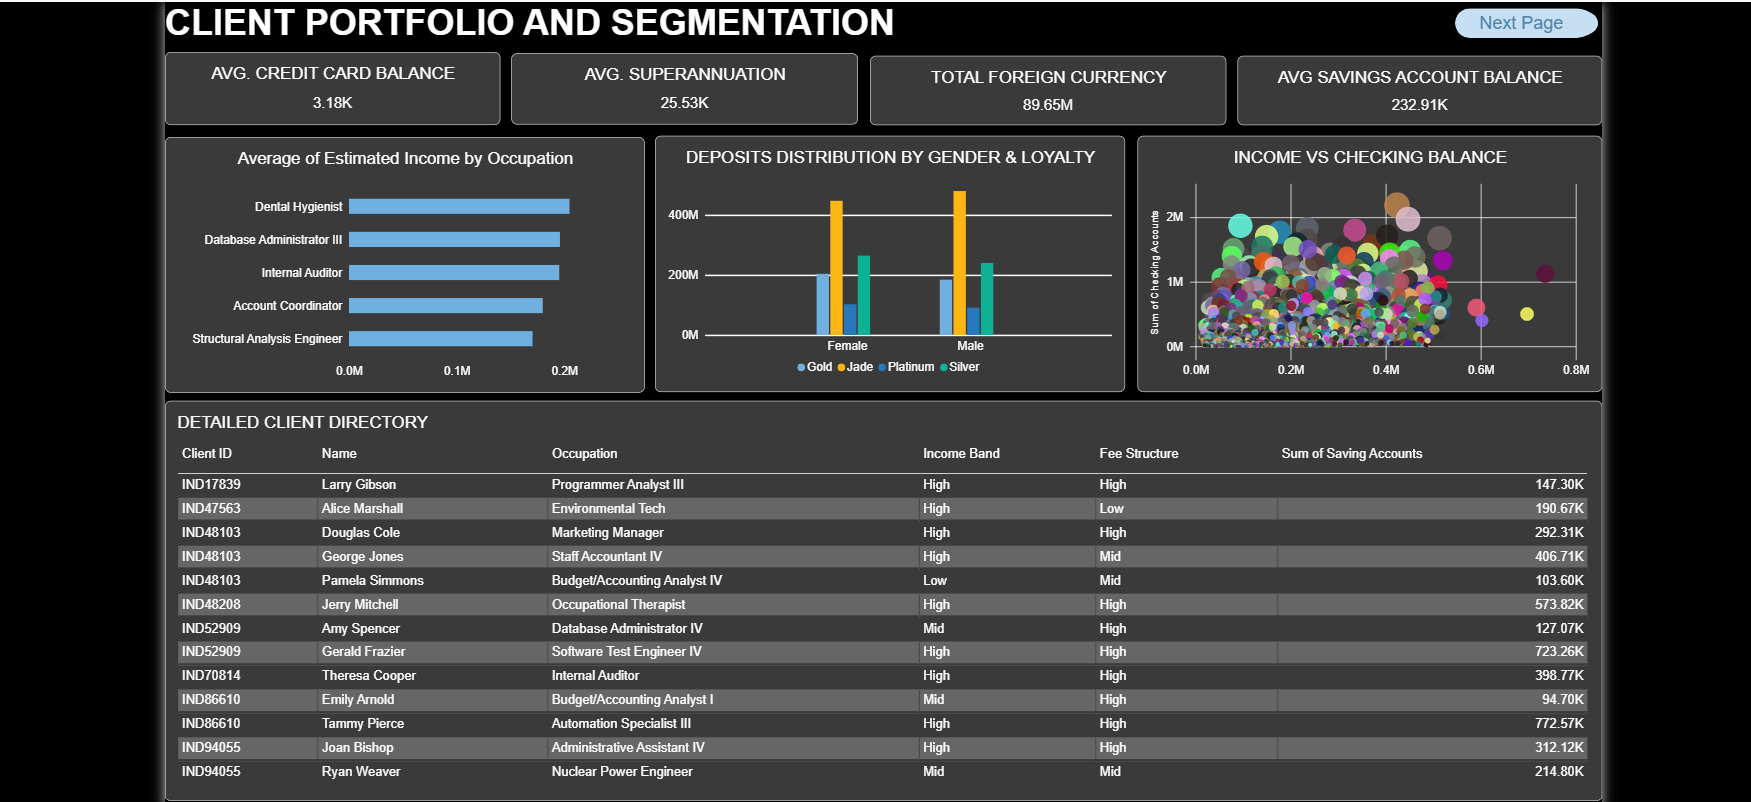

This screenshot's page, from the dashboard's own definition file:
{"tool":"powerbi","page":{"name":"Page 2","canvas":[1920,1080],"ordinal":1},"visuals":[{"type":"textbox","box":[0,0,1283,67],"z":0},{"type":"card","title":"AVG. CREDIT CARD BALANCE","fields":{"Values":["Avg(banking_merged.Credit Card Balance)"]},"box":[0,67.1,448,97.4],"z":1000},{"type":"card","title":"AVG. SUPERANNUATION","fields":{"Values":["Avg(banking_merged.Superannuation Savings)"]},"box":[463.1,69.3,463.1,95.2],"z":2000},{"type":"card","title":"TOTAL FOREIGN CURRENCY","fields":{"Values":["Sum(banking_merged.Foreign Currency Account)"]},"box":[941.4,71.4,476.1,93.1],"z":3000},{"type":"card","title":"AVG SAVINGS ACCOUNT BALANCE","fields":{"Values":["Avg(banking_merged.Saving Accounts)"]},"box":[1432.7,71.4,486.9,93.1],"z":4000},{"type":"clusteredBarChart","fields":{"Category":["banking_merged.Occupation"],"Y":["Avg(banking_merged.Estimated Income)"]},"box":[0,179.6,640.6,341.9],"z":5000},{"type":"clusteredColumnChart","title":"DEPOSITS DISTRIBUTION BY GENDER & LOYALTY","fields":{"Category":["banking_merged.Gender"],"Series":["banking_merged.Loyalty Classification"],"Y":["Sum(banking_merged.Bank Deposits)"]},"box":[655.1,179.2,628,342],"z":6000},{"type":"scatterChart","title":"INCOME VS CHECKING BALANCE","fields":{"Series":["banking_merged.Client ID"],"Size":["Sum(banking_merged.Bank Deposits)"],"X":["Sum(banking_merged.Estimated Income)"],"Y":["Sum(banking_merged.Checking Accounts)"]},"box":[1299.3,179.2,620.7,342],"z":7000},{"type":"tableEx","title":"DETAILED CLIENT DIRECTORY","fields":{"Values":["banking_merged.Client ID","banking_merged.Name","banking_merged.Occupation","banking_merged.Income Band","banking_merged.Fee Structure","Sum(banking_merged.Saving Accounts)"]},"box":[0,532,1920.1,535.7],"z":8000},{"type":"actionButton","title":"Next Page","box":[1722.7,9,197.3,39.8],"z":9000}]}

Visuals, with their boxes on the page's 1920x1080 design canvas (x1, y1, x2, y2). These are canvas units, not pixel positions in the 1751x802 screenshot, which may show the page scaled, cropped or inside an application window:
textbox: <box>0,0,1283,67</box>
"AVG. CREDIT CARD BALANCE" card: <box>0,67,448,164</box>
"AVG. SUPERANNUATION" card: <box>463,69,926,164</box>
"TOTAL FOREIGN CURRENCY" card: <box>941,71,1418,164</box>
"AVG SAVINGS ACCOUNT BALANCE" card: <box>1433,71,1920,164</box>
clusteredBarChart - banking_merged.Occupation x Avg(banking_merged.Estimated Income): <box>0,180,641,522</box>
"DEPOSITS DISTRIBUTION BY GENDER & LOYALTY" clusteredColumnChart: <box>655,179,1283,521</box>
"INCOME VS CHECKING BALANCE" scatterChart: <box>1299,179,1920,521</box>
"DETAILED CLIENT DIRECTORY" tableEx: <box>0,532,1920,1068</box>
"Next Page" actionButton: <box>1723,9,1920,49</box>
